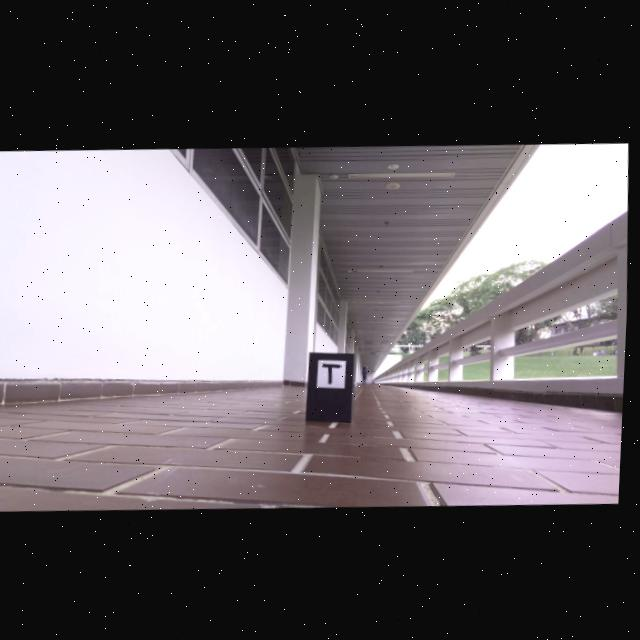T: (325, 361, 344, 382)
